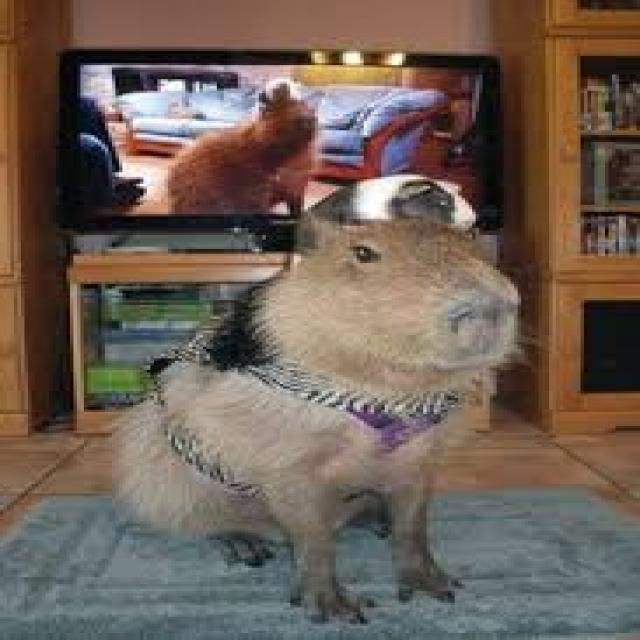capy: (108, 212, 523, 626), (169, 76, 323, 214)
